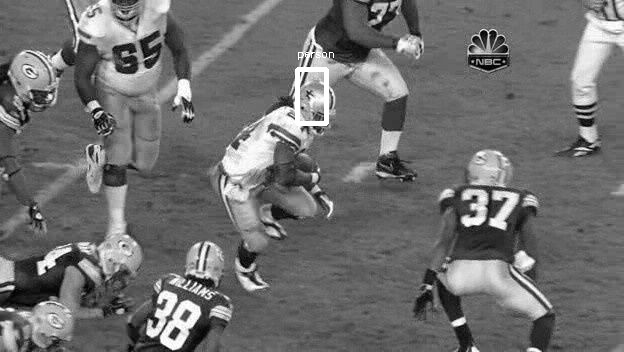person: (299, 78, 335, 132), (298, 78, 334, 132), (300, 78, 336, 132), (299, 77, 335, 131), (299, 79, 335, 133)
target_negative: (217, 21, 336, 281), (463, 22, 532, 114), (56, 106, 226, 117), (266, 339, 448, 343), (481, 349, 512, 352)
